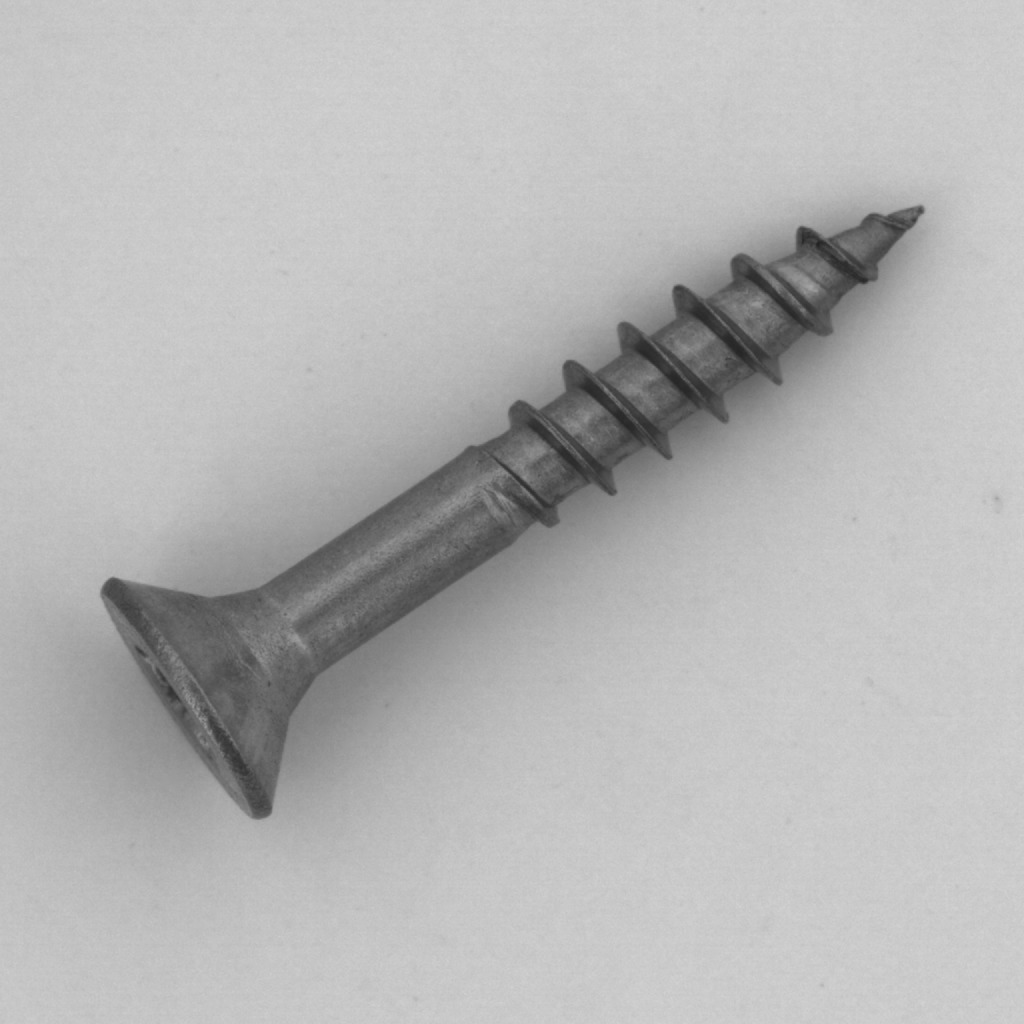good: (85, 186, 932, 849)
